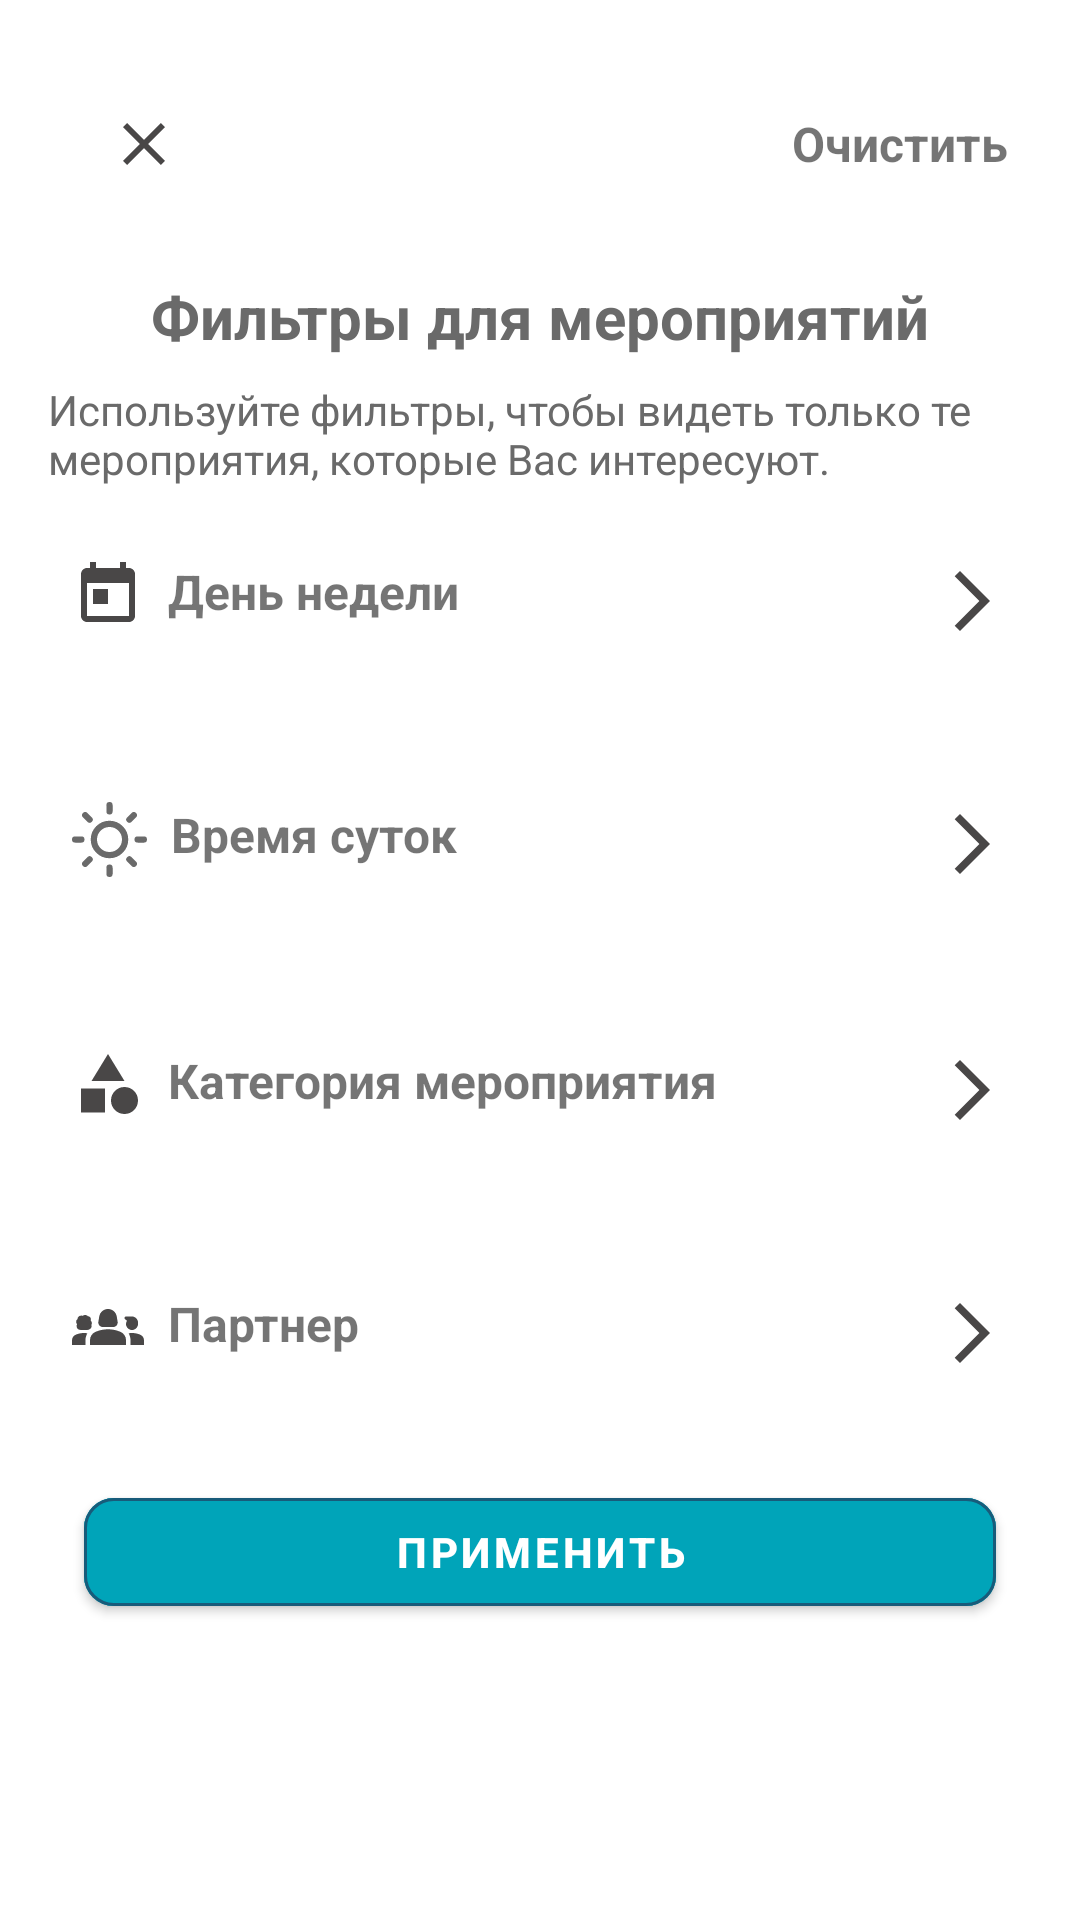

Locate icon controls on the screen. Image size 1080px×1920px, boxes as {"x1": x1, "y1": y1, "x2": x2, "y2": y2}.
close: {"x1": 123, "y1": 123, "x2": 165, "y2": 165}
